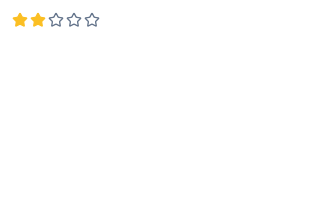
StarRating › comment popover › opens in compose mode when there is no initialComment
Click the button named "4 star" at (74, 20), box [66,12,82,28]
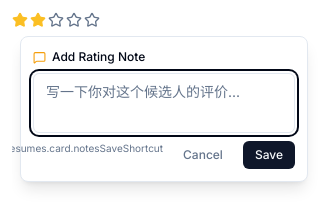
Now the text box with test id "rating-comment-input" is shown, box [33,73,295,133]
Now the button with test id "rating-comment-save" is shown, box [243,141,295,169]
